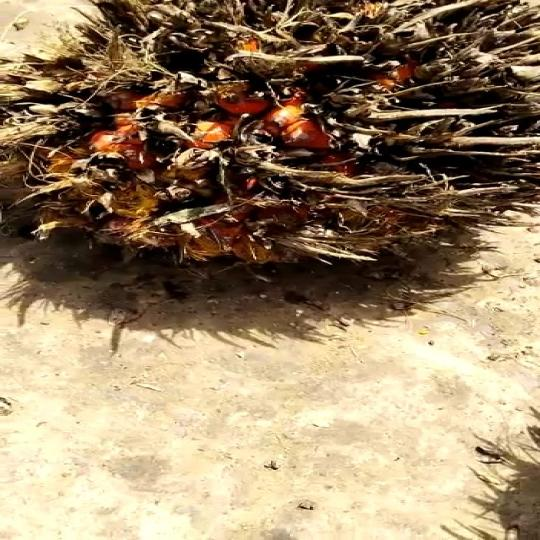terlalu masak: (0, 0, 540, 266)
